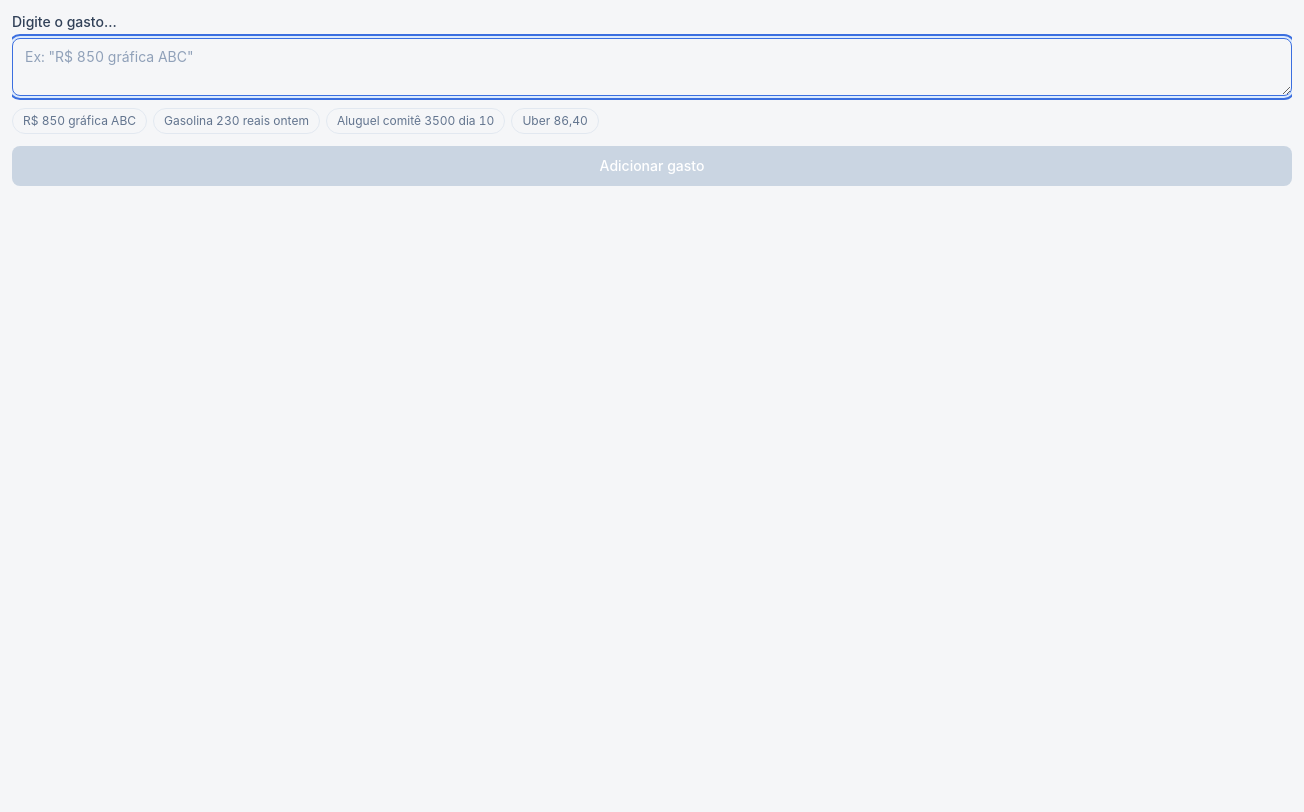
Test: QuickAddForm › sends the free-text entry to the backend and renders exactly what it returns
Type "R$ 850 gráfica ABC" into the text box labelled "Digite o gasto…".
click(652, 67); type("R$ 850 gráfica ABC")  # box x1=12 y1=38 x2=1292 y2=96
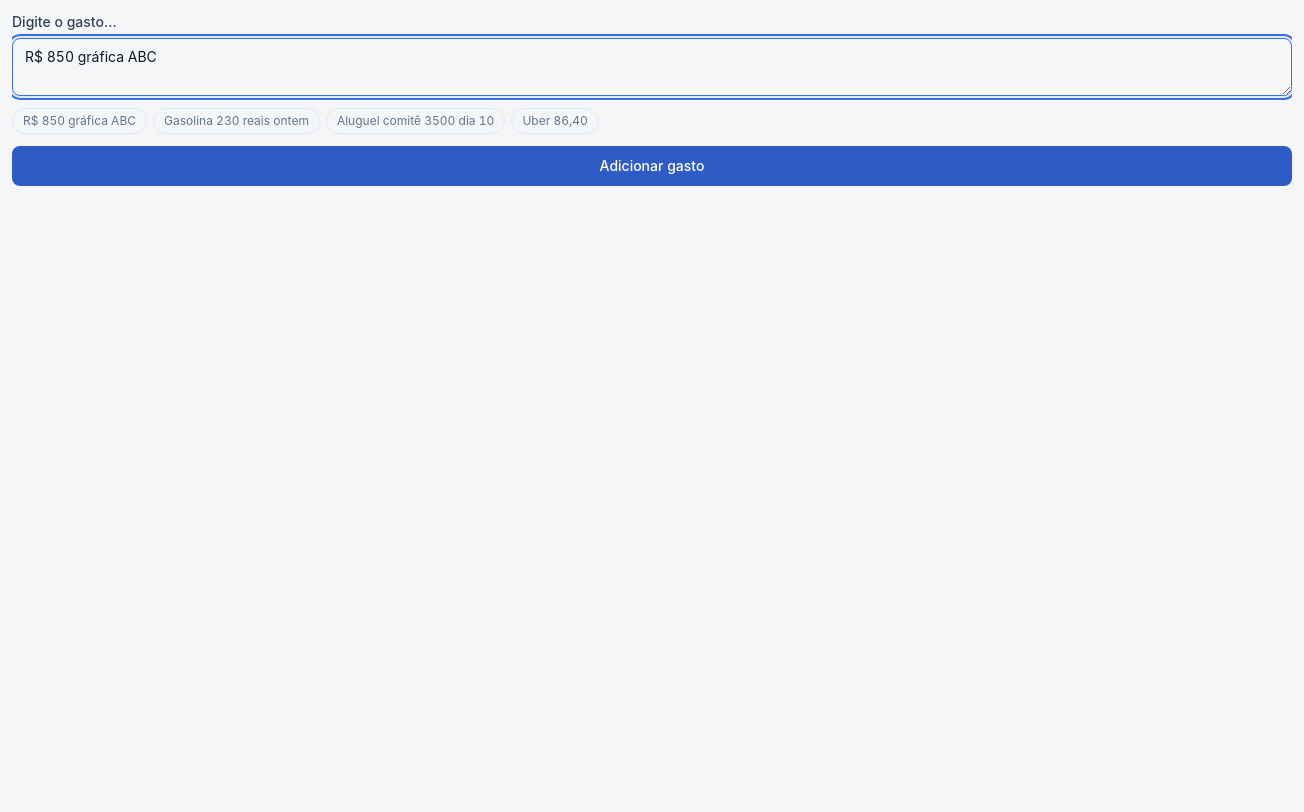
Click the button "Adicionar gasto".
click(652, 166)  # box x1=12 y1=146 x2=1292 y2=186
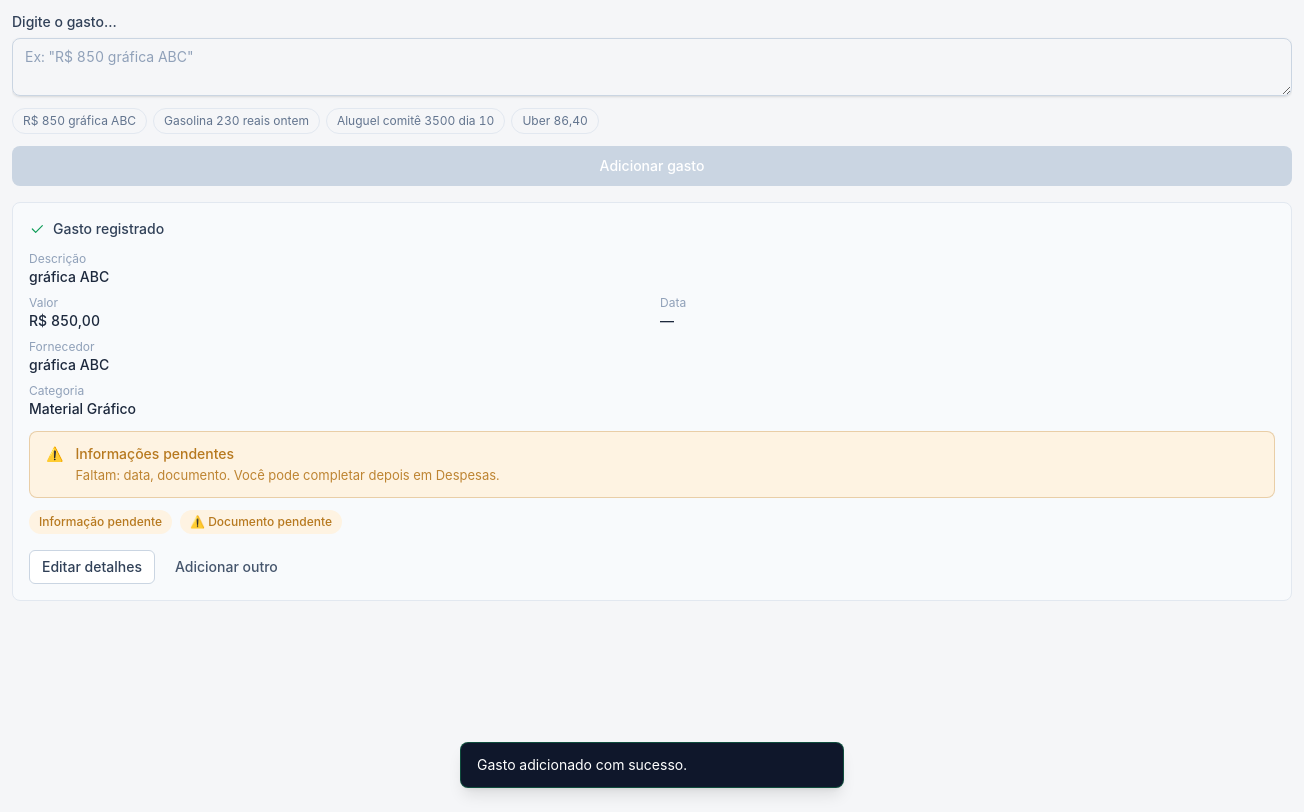
Expected: the text "Gasto registrado" is shown, x1=29 y1=220 x2=164 y2=237
Expected: the text "R$ 850,00" is shown, x1=29 y1=312 x2=100 y2=329
Expected: the text "gráfica ABC" below "Descrição" is shown, x1=29 y1=268 x2=109 y2=285
